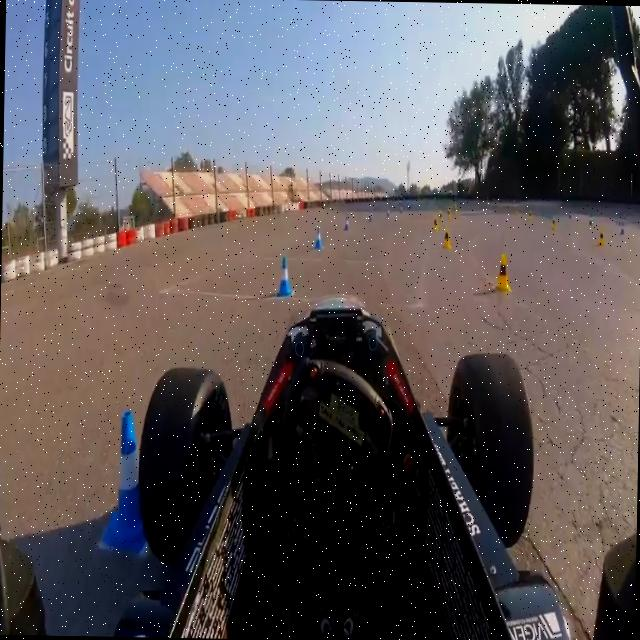blue_cone: (95, 407, 158, 567), (276, 257, 292, 296), (314, 225, 323, 251), (342, 214, 348, 232), (588, 212, 593, 226), (368, 210, 372, 223), (386, 208, 391, 218), (399, 206, 404, 214)
yellow_cone: (494, 253, 511, 294), (597, 228, 605, 248), (443, 228, 451, 248), (432, 216, 438, 234), (550, 216, 556, 231), (439, 210, 444, 224), (446, 207, 451, 221)
